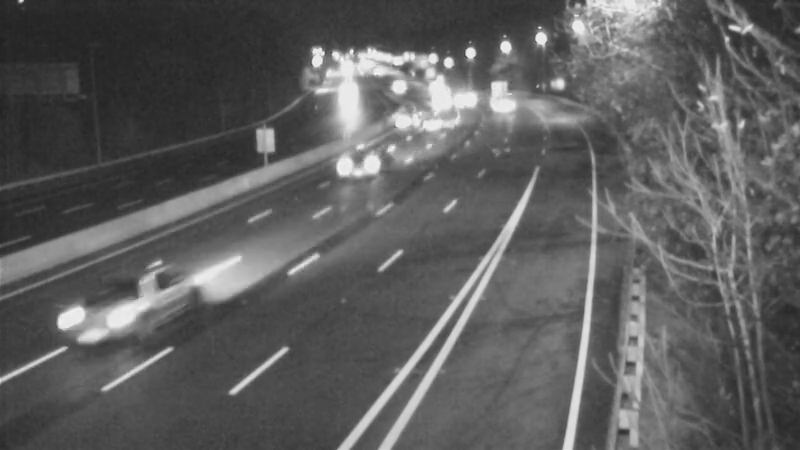vehicle: (52, 256, 162, 366), (320, 128, 400, 208), (407, 58, 457, 108), (372, 60, 422, 110), (414, 72, 464, 122), (436, 75, 486, 125), (477, 77, 527, 127), (410, 93, 460, 143), (379, 90, 429, 140), (321, 66, 371, 116)
